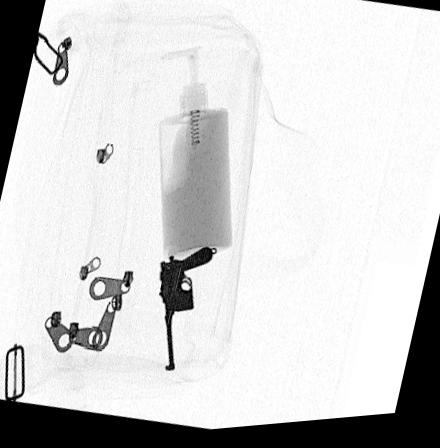Gun: (160, 248, 213, 372)
